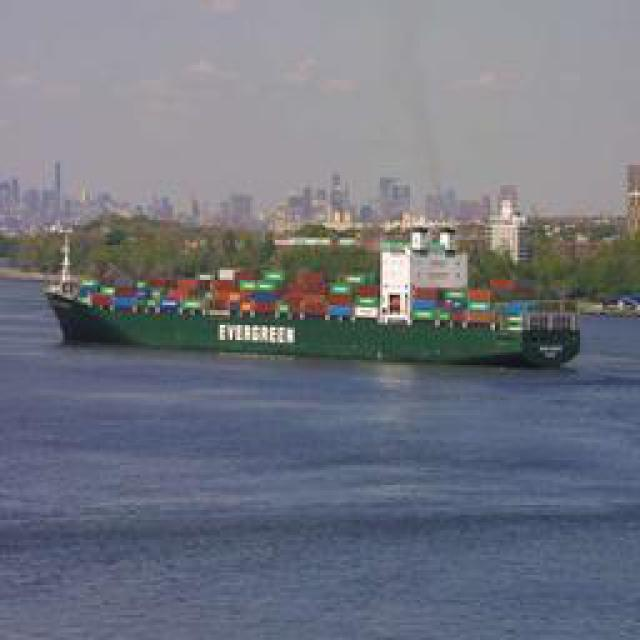Ship: (51, 275, 591, 368)
